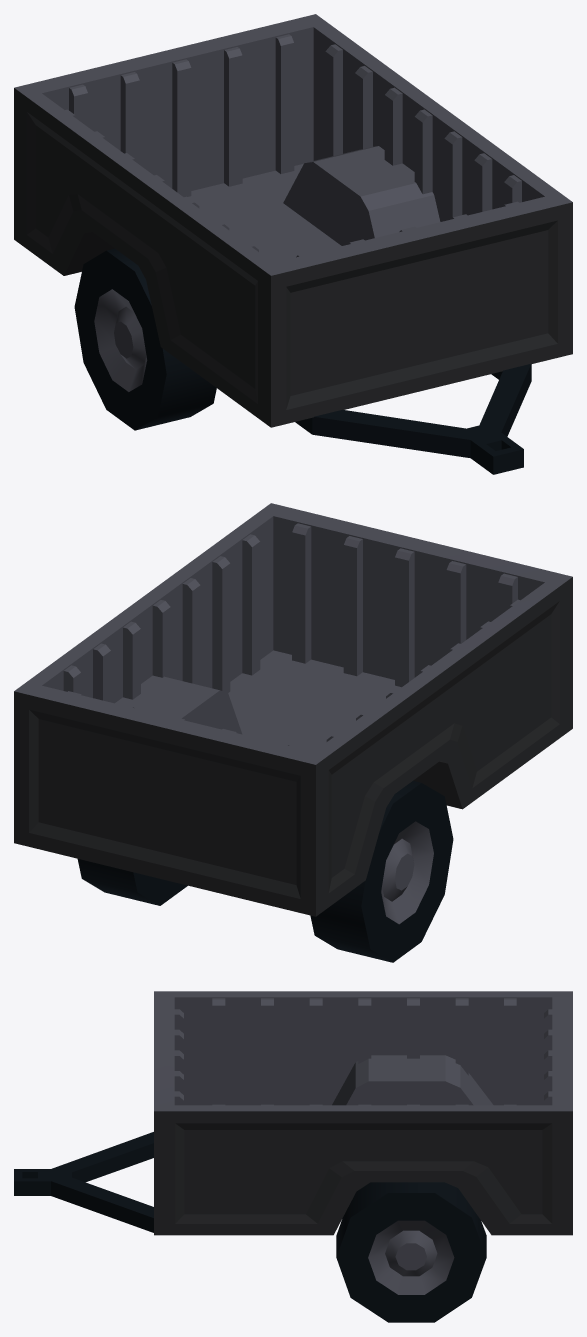
The model's file is Trailer_4.fbx.
The picture shows the model from 3 angles, top to bottom: view 1: azimuth 30°, elevation 25°; view 2: azimuth 150°, elevation 25°; view 3: azimuth 270°, elevation 25°; orthographic projection. The views are drawn at different scales.
Parts seen in each view (by area): view 1: Trailer_4; view 2: Trailer_4; view 3: Trailer_4.
Boxes of the visible parts, <box> form: Trailer_4: <box>14,14,572,474</box>; Trailer_4: <box>14,503,572,962</box>; Trailer_4: <box>14,991,572,1322</box>.
Bounding box in the file's own units: 56.25 × 46.62 × 111.
